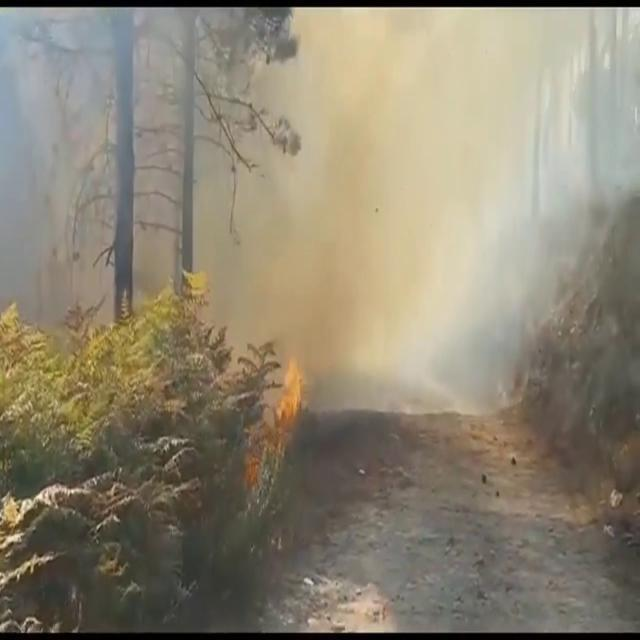Fire: (334, 117, 479, 326), (276, 350, 314, 444)
Smoke: (248, 11, 556, 256)
